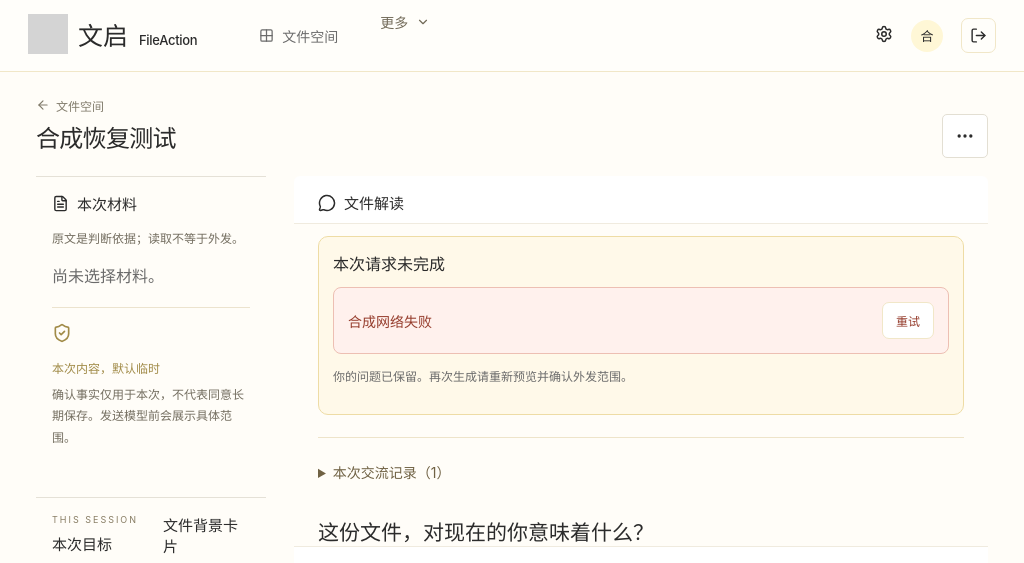
Test: 恢复的首次状态读取失败后可重试，仍不新建模型运行
Expected: the message "合成网络失败 重试" is shown, left=333, top=287, right=949, bottom=354
Click the button "重试" at (908, 321), box left=882, top=302, right=934, bottom=339
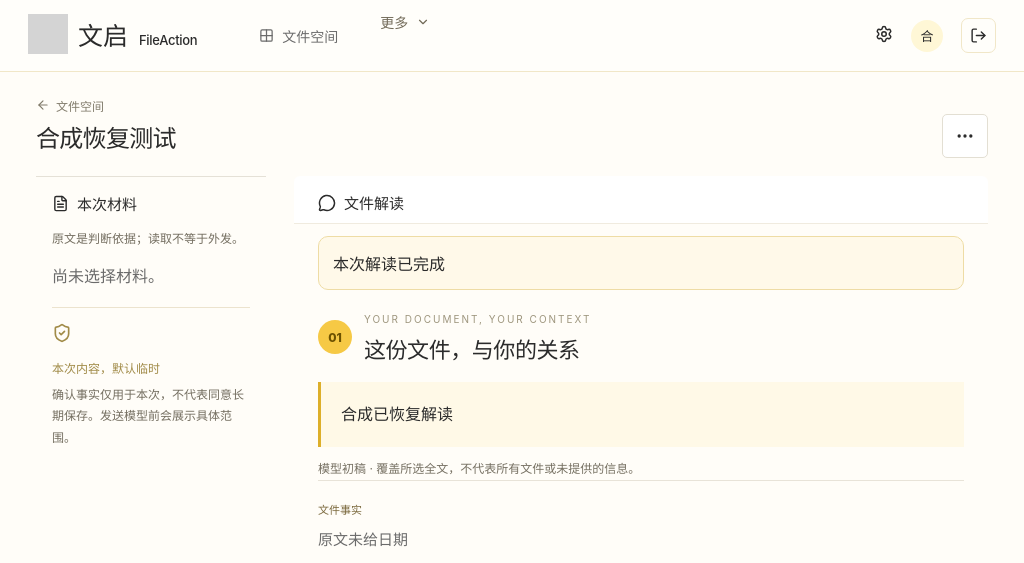
Now the text "合成已恢复解读" is shown, box left=318, top=382, right=964, bottom=447
